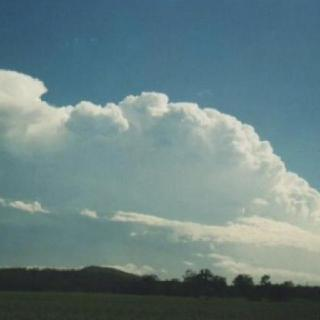Cumulonimbus: (0, 71, 320, 282)
